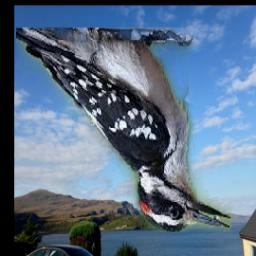Woodpecker: (15, 29, 230, 233)
